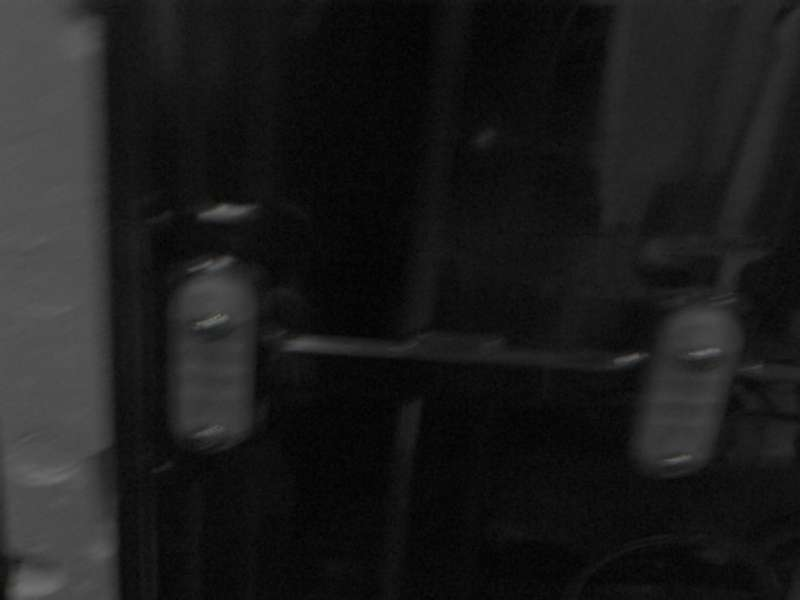screw: (676, 346, 727, 371), (188, 425, 230, 453), (191, 312, 234, 339), (658, 453, 695, 476)
